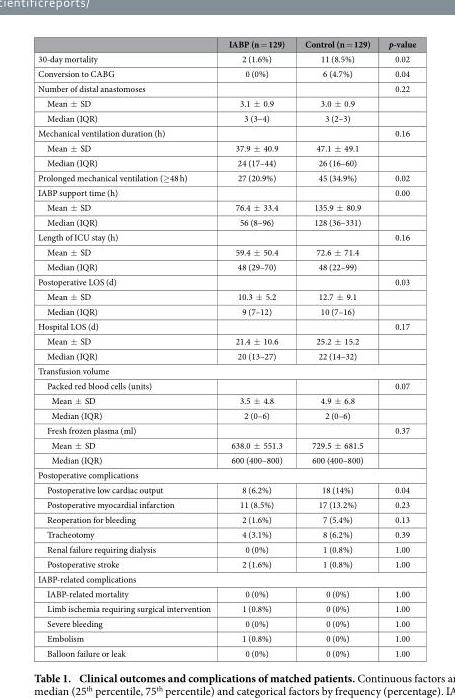table: (37, 37, 415, 658)
table column: (37, 37, 219, 658), (294, 37, 378, 658), (219, 37, 294, 658), (378, 37, 415, 658)
table column header: (37, 37, 415, 51)
table projected row header: (37, 571, 415, 586), (37, 363, 415, 377), (37, 467, 415, 481)
table row: (37, 65, 415, 80), (37, 80, 415, 95), (37, 95, 415, 110), (37, 110, 415, 125), (37, 125, 415, 140), (37, 140, 415, 155), (37, 169, 415, 184), (37, 184, 415, 199), (37, 199, 415, 214), (37, 214, 415, 229), (37, 229, 415, 244), (37, 244, 415, 259), (37, 273, 415, 288), (37, 288, 415, 303), (37, 303, 415, 318), (37, 318, 415, 333), (37, 333, 415, 348), (37, 348, 415, 363), (37, 377, 415, 392), (37, 392, 415, 407), (37, 407, 415, 422), (37, 422, 415, 437), (37, 437, 415, 452), (37, 452, 415, 467), (37, 481, 415, 496), (37, 496, 415, 511), (37, 511, 415, 526), (37, 526, 415, 541), (37, 541, 415, 556), (37, 556, 415, 571), (37, 571, 415, 586), (37, 600, 415, 615), (37, 615, 415, 630), (37, 630, 415, 645), (37, 37, 415, 51), (37, 51, 415, 65), (37, 155, 415, 169), (37, 259, 415, 273), (37, 363, 415, 377), (37, 467, 415, 481), (37, 586, 415, 600), (37, 645, 415, 658)
